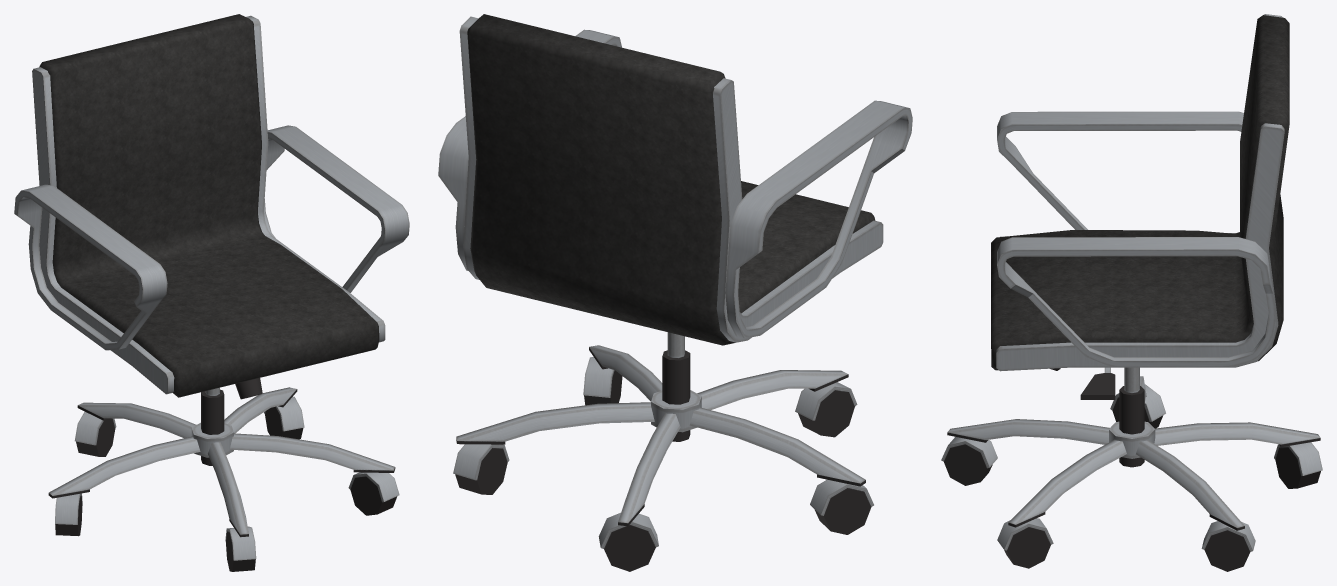
File: office_chair_modern_scaled.obj
3 views of the same model, side by side, from view 1: azimuth 30°, elevation 25°; view 2: azimuth 150°, elevation 25°; view 3: azimuth 270°, elevation 25° (orthographic). The views are drawn at different scales.
Visible parts, largest first — view 1: obj1; view 2: obj1; view 3: obj1.
Boxes of the visible parts, x1=… form: obj1: x1=14, y1=14, x2=409, y2=571; obj1: x1=438, y1=14, x2=912, y2=571; obj1: x1=941, y1=14, x2=1322, y2=571.
Bounding box in the file's own units: 0.6556 × 0.8792 × 0.6913.
